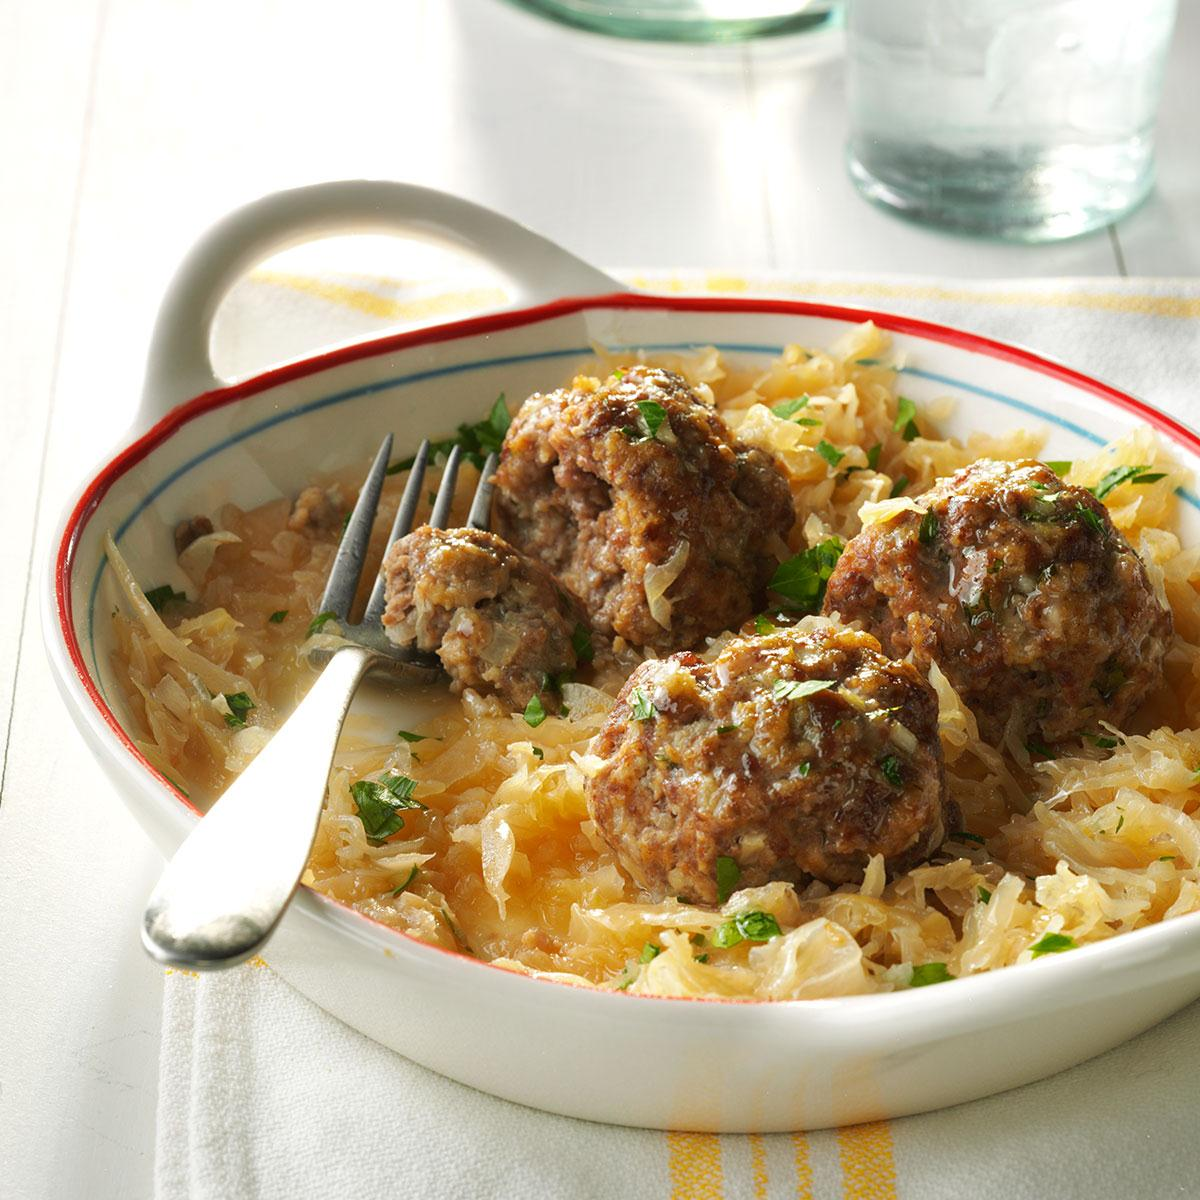meatballs: (516, 378, 1078, 824)
